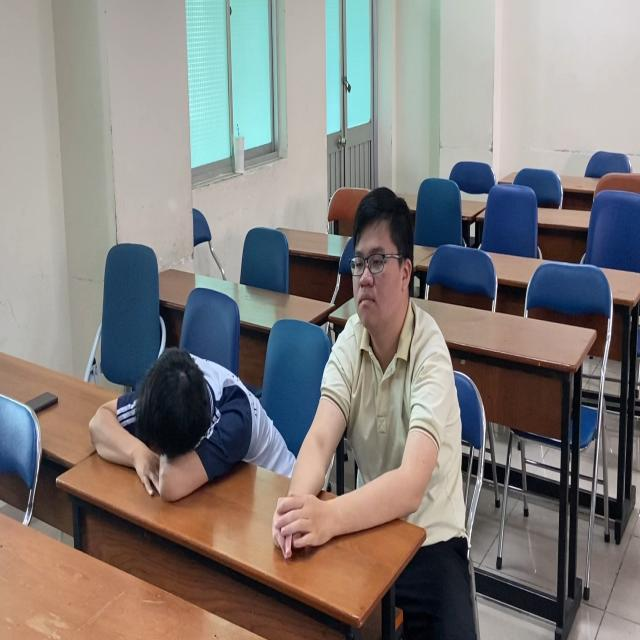sleep: (78, 338, 279, 507)
